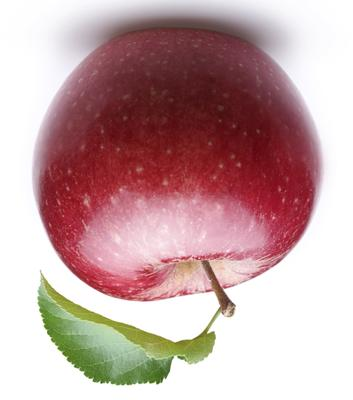apple: (0, 0, 353, 400)
